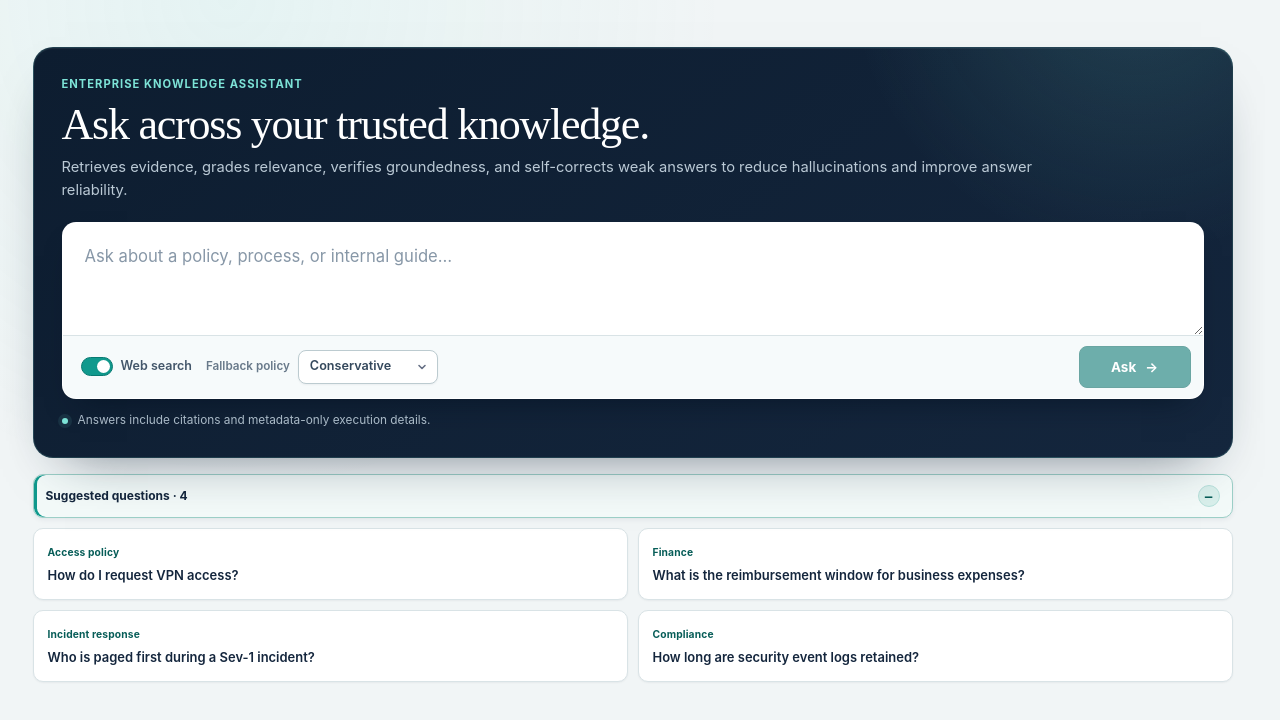
it: AskPage › enables the Ask button for a valid question
This screenshot has width=1280, height=720.
Step 1. Type "What is the expense policy?" into the text box named "Question" → [632, 279], box [62, 223, 1202, 334]
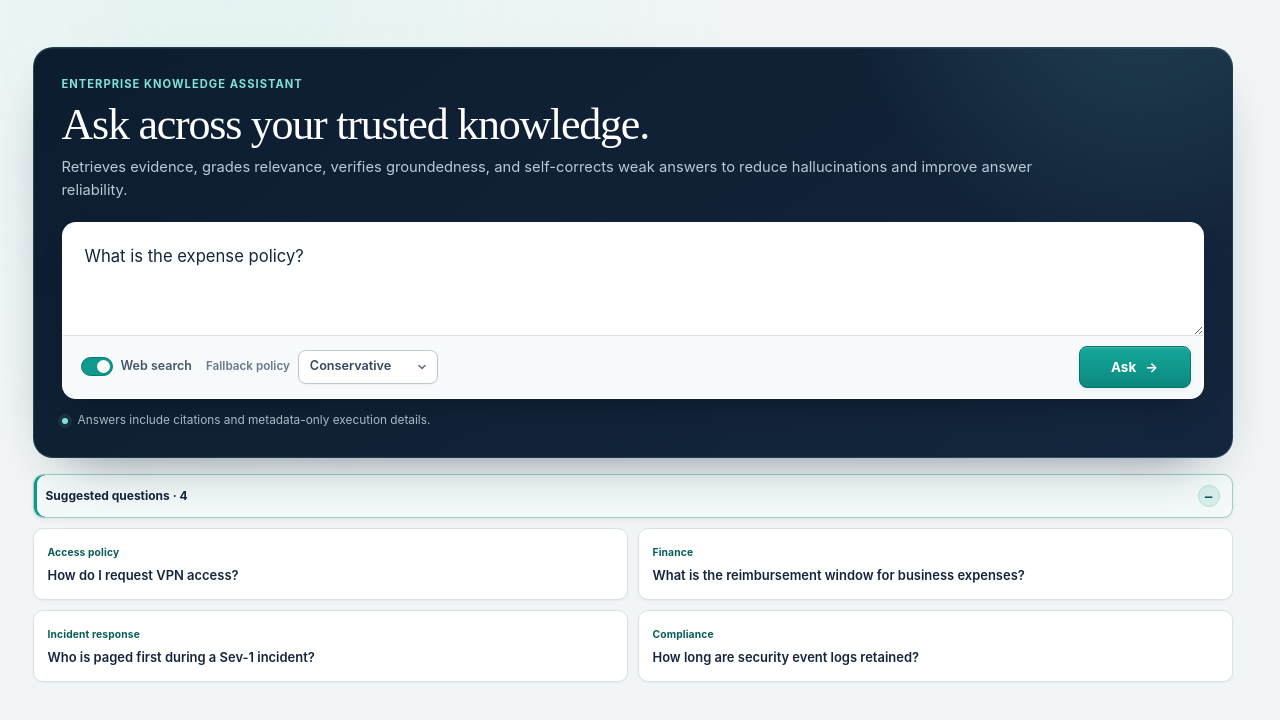
Expected: the button "Ask →" is enabled, [1078, 346, 1190, 388]
